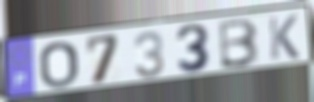3: (175, 23, 213, 75), (133, 30, 166, 79)
7: (85, 33, 123, 87)
B: (218, 16, 262, 71)
K: (266, 13, 302, 62)
O: (38, 40, 80, 90)
